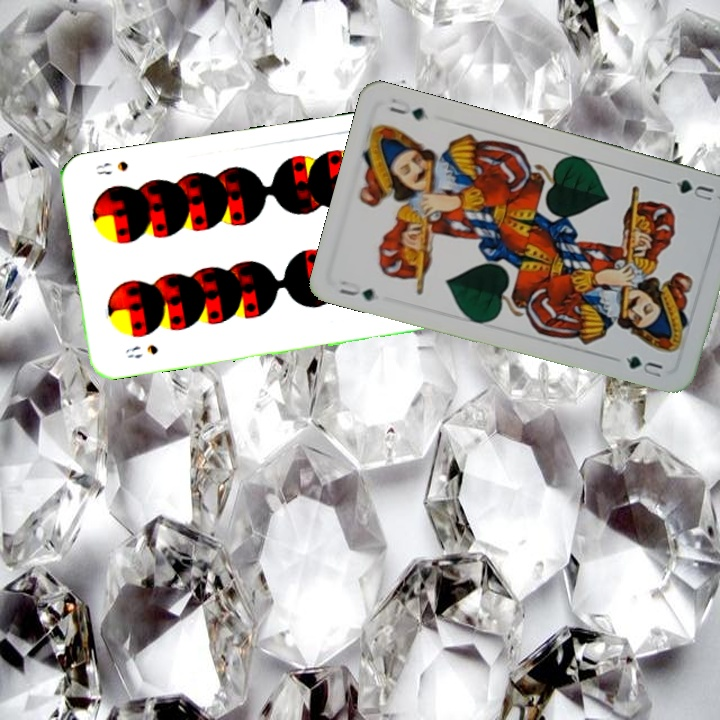GU: (672, 175, 716, 203), (334, 276, 377, 304)
S8: (121, 340, 161, 361)
